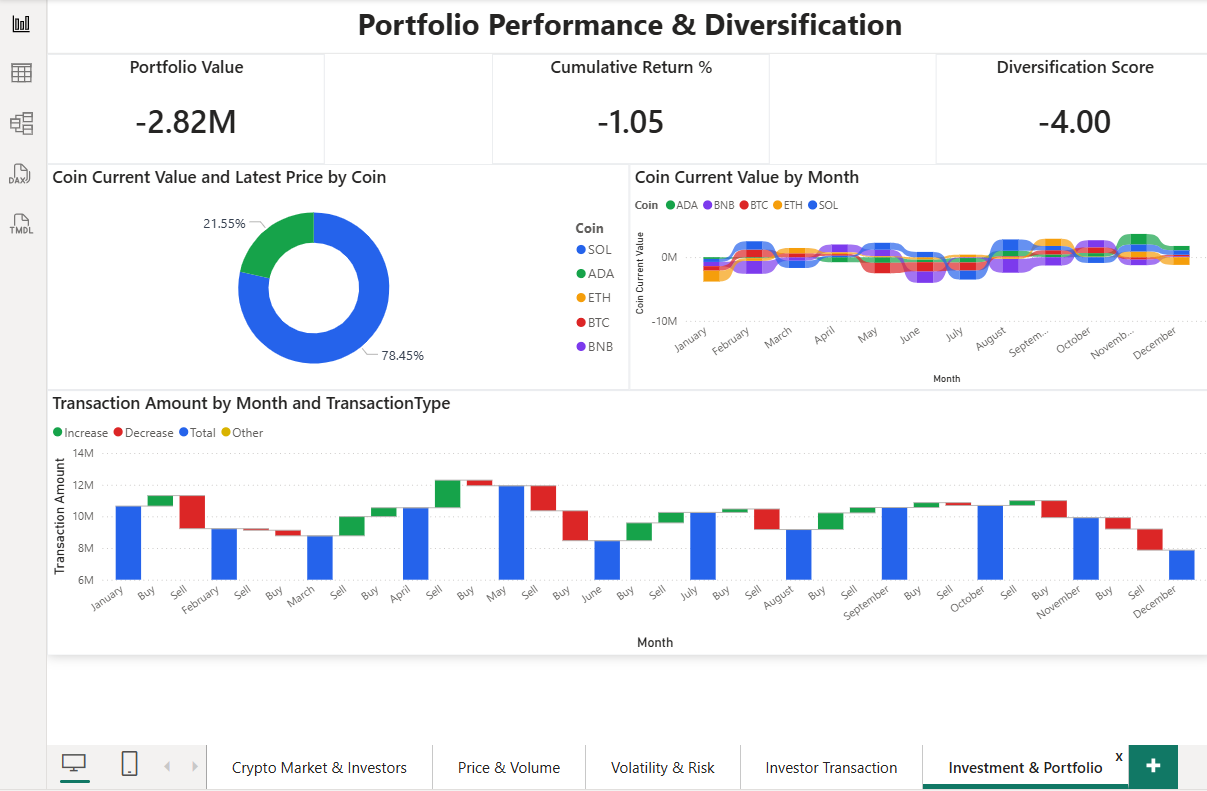

What the dashboard file says about the page in this screenshot:
{"tool":"powerbi","page":{"name":"Investment & Portfolio","canvas":[1280,720],"ordinal":4},"visuals":[{"type":"textbox","box":[0,0,1280.3,60.4],"z":0},{"type":"kpi","title":"Portfolio Value","fields":{"Indicator":["Investors_Dimension.Portfolio Value"],"TrendLine":["Date.Date"]},"box":[0,60.4,304.6,120.8],"z":1000},{"type":"kpi","title":"Cumulative Return %","fields":{"Indicator":["Synthetic_Crypto_Investor_Transactions.Cumulative Return %"],"TrendLine":["Date.Date"]},"box":[488.5,60.4,304.6,120.8],"z":2000},{"type":"kpi","title":"Diversification Score","fields":{"Indicator":["Synthetic_Crypto_Investor_Transactions.Diversification Score"],"TrendLine":["Date.Date"]},"box":[975.6,60.4,304.6,120.8],"z":3000},{"type":"donutChart","fields":{"Category":["Synthetic_Crypto_Investor_Transactions.Coin"],"Y":["Synthetic_Crypto_Investor_Transactions.Coin Current Value"]},"box":[0,181.1,639.5,248.4],"z":4000},{"type":"waterfallChart","fields":{"Y":["Sum(Synthetic_Crypto_Investor_Transactions.TradeValue)"],"Breakdown":["Synthetic_Crypto_Investor_Transactions.TransactionType"],"Category":["Synthetic_Crypto_Investor_Transactions.TransactionDate.Variation.Date Hierarchy.Month"]},"box":[0,429.5,1280.3,290.9],"z":5000},{"type":"ribbonChart","title":"Coin Current Value by Month","fields":{"Series":["Synthetic_Crypto_Investor_Transactions.Coin"],"Y":["Synthetic_Crypto_Investor_Transactions.Coin Current Value"],"Category":["Synthetic_Crypto_Investor_Transactions.TransactionDate.Variation.Date Hierarchy.Month"]},"box":[639.5,181.1,640.8,248.4],"z":6000}]}

Visuals, with their boxes on the page's 1280x720 design canvas (x1, y1, x2, y2). These are canvas units, not pixel positions in the 1207x791 screenshot, which may show the page scaled, cropped or inside an application window:
textbox: x1=0 y1=0 x2=1280 y2=60
"Portfolio Value" kpi: x1=0 y1=60 x2=305 y2=181
"Cumulative Return %" kpi: x1=488 y1=60 x2=793 y2=181
"Diversification Score" kpi: x1=976 y1=60 x2=1280 y2=181
donutChart - Synthetic_Crypto_Investor_Transactions.Coin x Synthetic_Crypto_Investor_Transactions.Coin Current Value: x1=0 y1=181 x2=640 y2=430
waterfallChart - Sum(Synthetic_Crypto_Investor_Transactions.TradeValue) x Synthetic_Crypto_Investor_Transactions.TransactionType: x1=0 y1=430 x2=1280 y2=720
"Coin Current Value by Month" ribbonChart: x1=640 y1=181 x2=1280 y2=430
